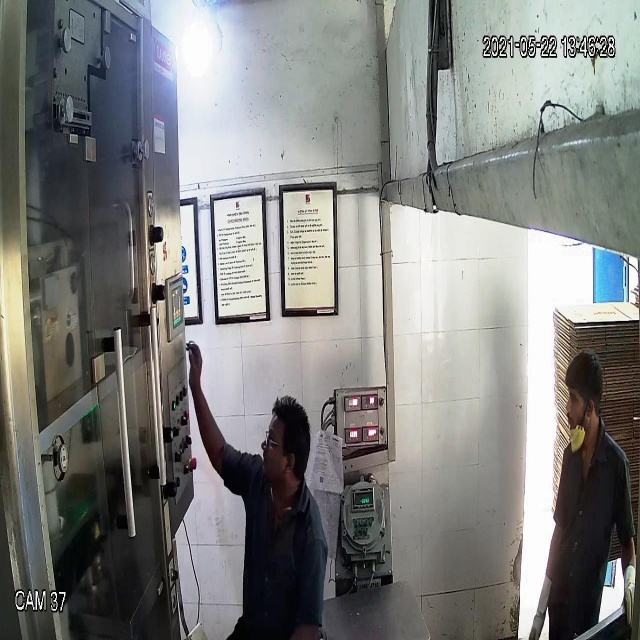Gafas: (260, 426, 300, 453)
